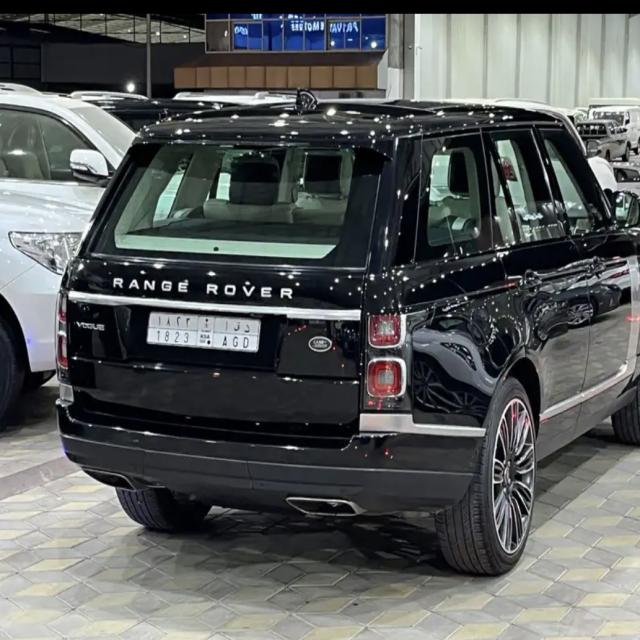license_plate: (148, 306, 262, 356)
